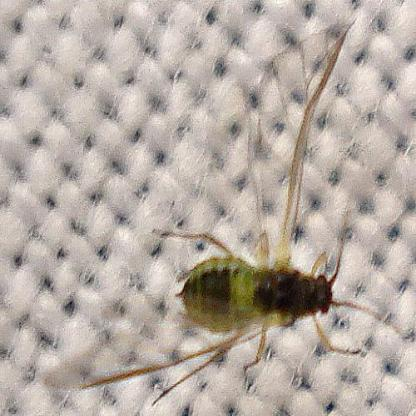aphid: (71, 12, 395, 394)
